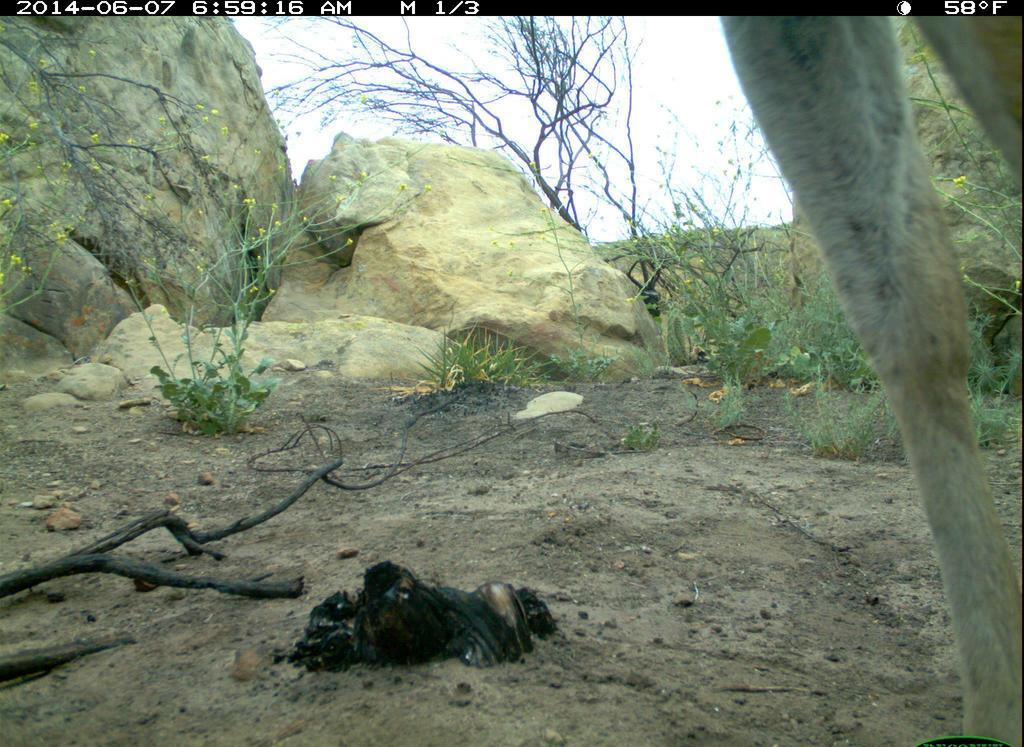deer: (711, 8, 1023, 747)
